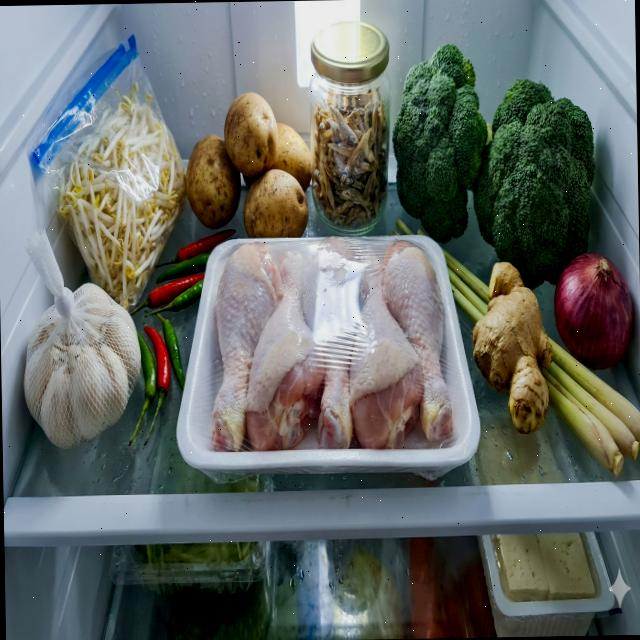anchovies: (310, 94, 392, 232)
bean_sprouts: (58, 80, 185, 310)
brocolli: (390, 39, 597, 296)
chicken: (208, 234, 452, 452)
chili: (126, 312, 186, 450), (147, 231, 228, 313)
garlic: (22, 280, 142, 450)
ginger: (474, 262, 554, 437)
lemongrass: (538, 323, 640, 483)
onion: (555, 254, 632, 374)
potato: (184, 90, 314, 240)
tofu: (492, 530, 599, 602)
